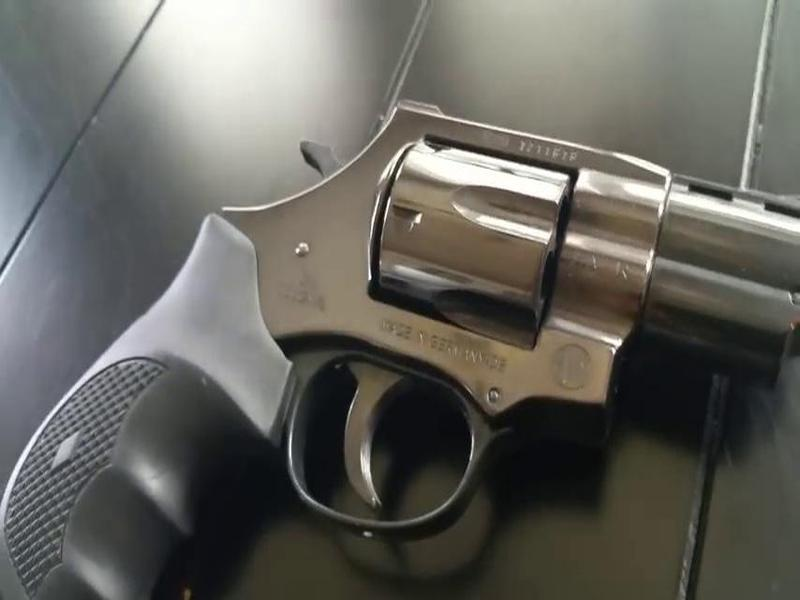Revolver: (23, 90, 800, 512)
